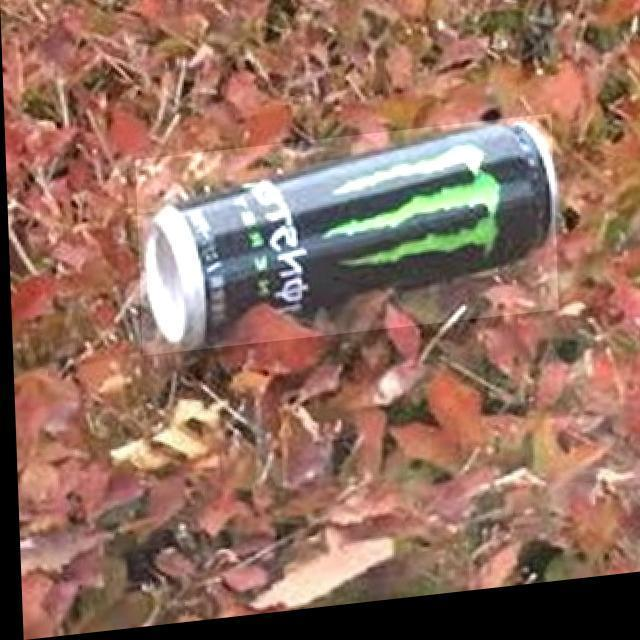trash: (139, 121, 559, 336)
